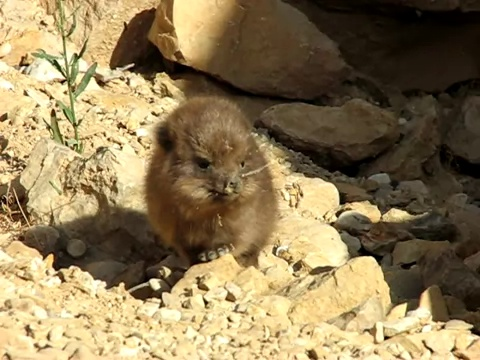Rock Hyrex: (153, 103, 270, 265)
